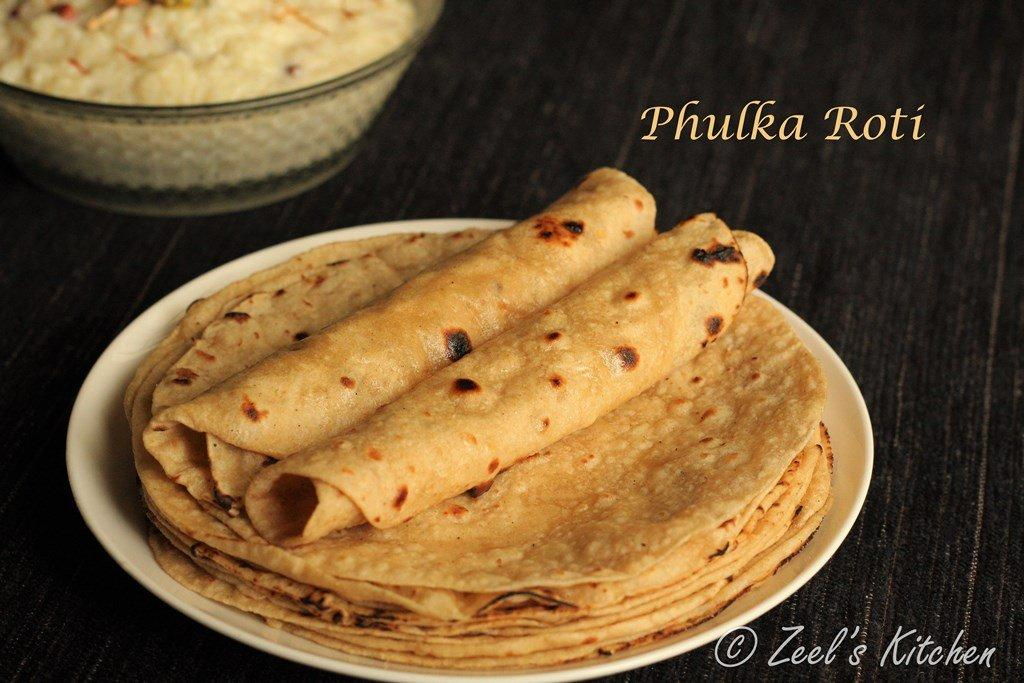roti phulka: (143, 219, 807, 613)
